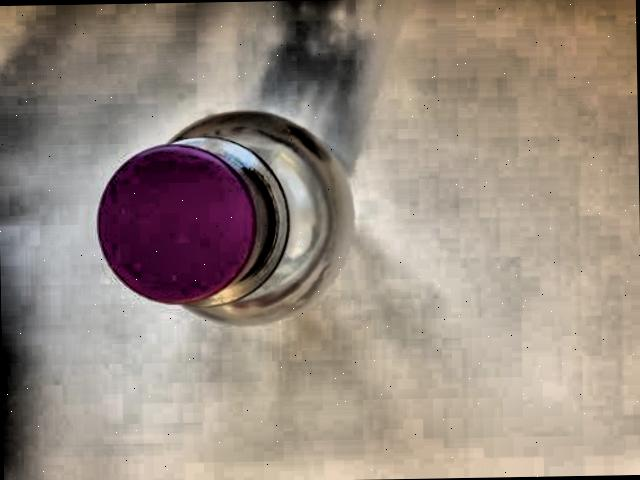Bottles: (86, 92, 368, 347)
